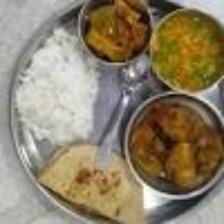rice: (16, 29, 97, 142)
